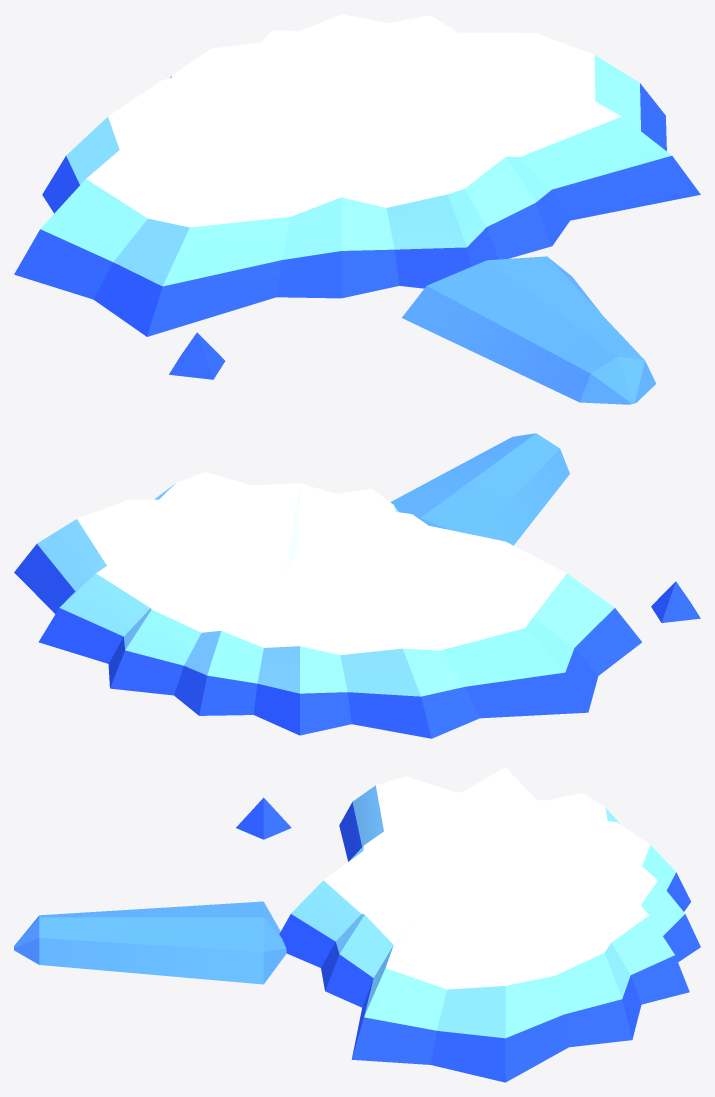
The model's file is shot_ice_136.glb.
3 renders of one model, top to bottom at view 1: azimuth 30°, elevation 25°; view 2: azimuth 150°, elevation 25°; view 3: azimuth 270°, elevation 25°, orthographic. The views are drawn at different scales.
Parts seen in each view (by area): view 1: shot_ice_136_cap, shot_ice_136_trail; view 2: shot_ice_136_cap, shot_ice_136_trail; view 3: shot_ice_136_cap, shot_ice_136_trail.
Part boxes in pixels (x1,y1,x2,y2): shot_ice_136_cap: [14, 14, 700, 336]; shot_ice_136_trail: [169, 256, 656, 404]; shot_ice_136_cap: [14, 472, 641, 738]; shot_ice_136_trail: [390, 433, 700, 622]; shot_ice_136_cap: [279, 767, 700, 1082]; shot_ice_136_trail: [14, 797, 291, 984].
Bounding box in the file's own units: 11.47 × 3.04 × 12.24.
